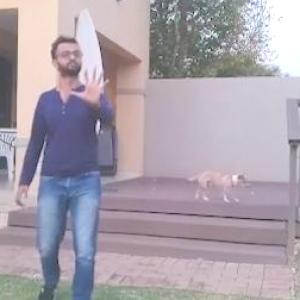follow_hand: (66, 58, 116, 107)
